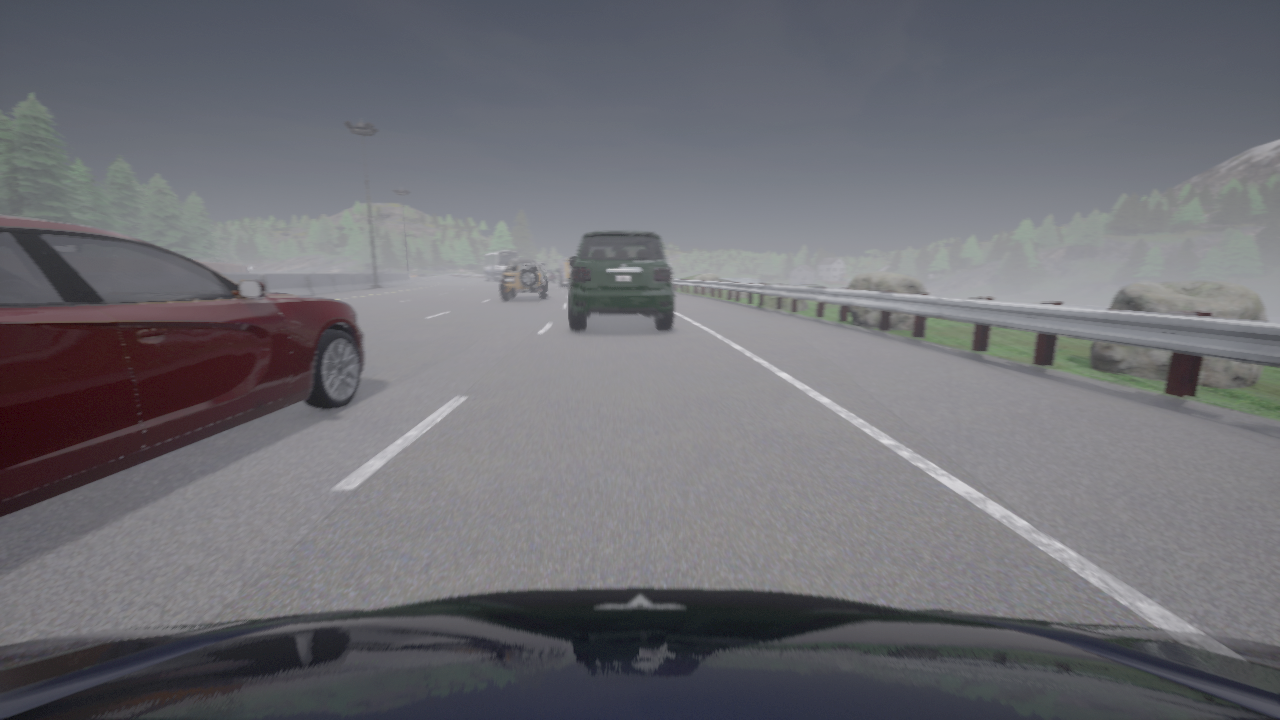cyclist: (0, 588, 1279, 719), (568, 231, 673, 329), (500, 258, 548, 300), (480, 250, 518, 281), (555, 257, 571, 286), (537, 262, 546, 274), (547, 269, 555, 282)
